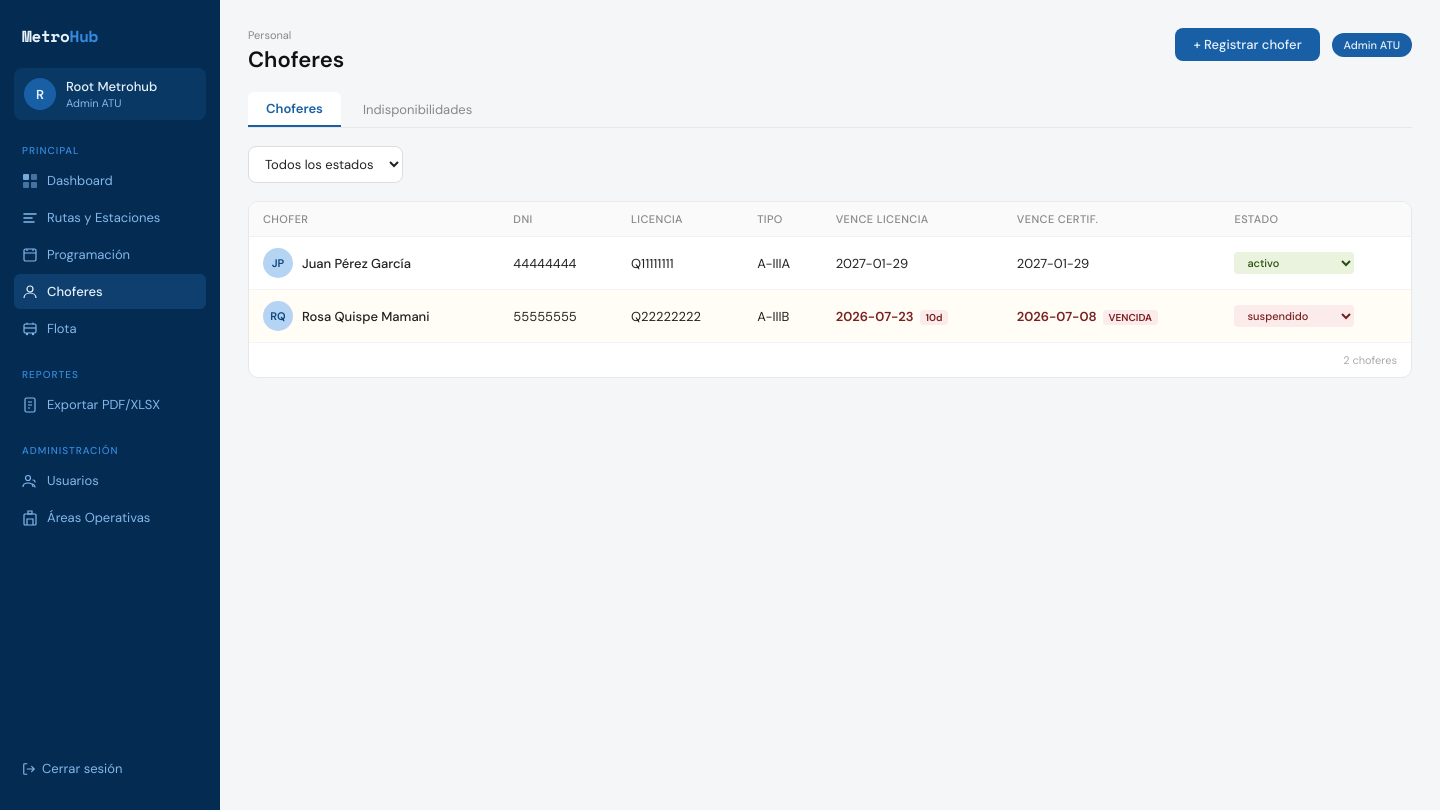
Test: Choferes (RF03) › valida los campos obligatorios al registrar un chofer
Expected: the text "Juan Pérez García" is shown, [302,254,411,272]
Click the button "+ Registrar chofer": (1248,44) [1176,28,1320,61]
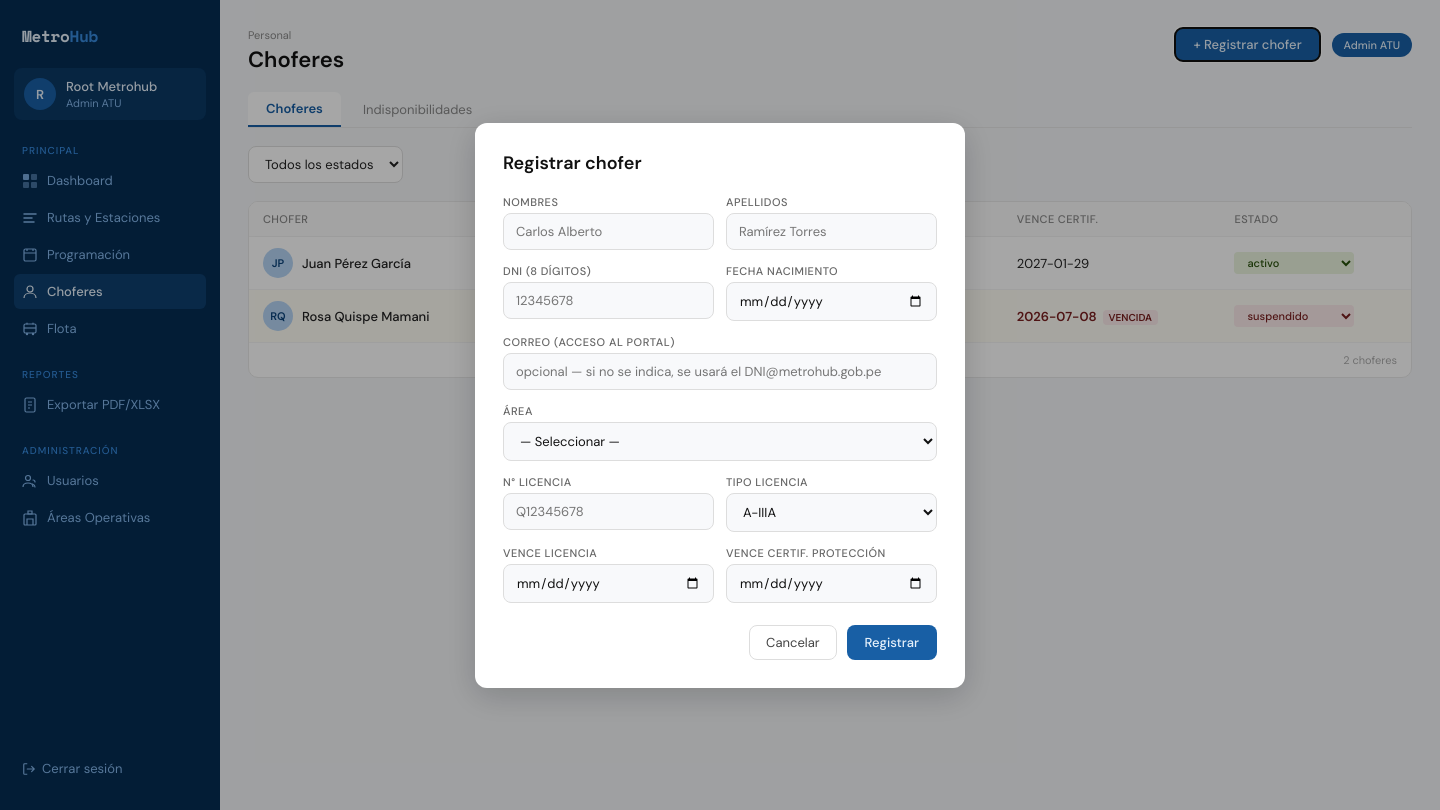
Click the button "Registrar": (892,642) [847,624,937,660]
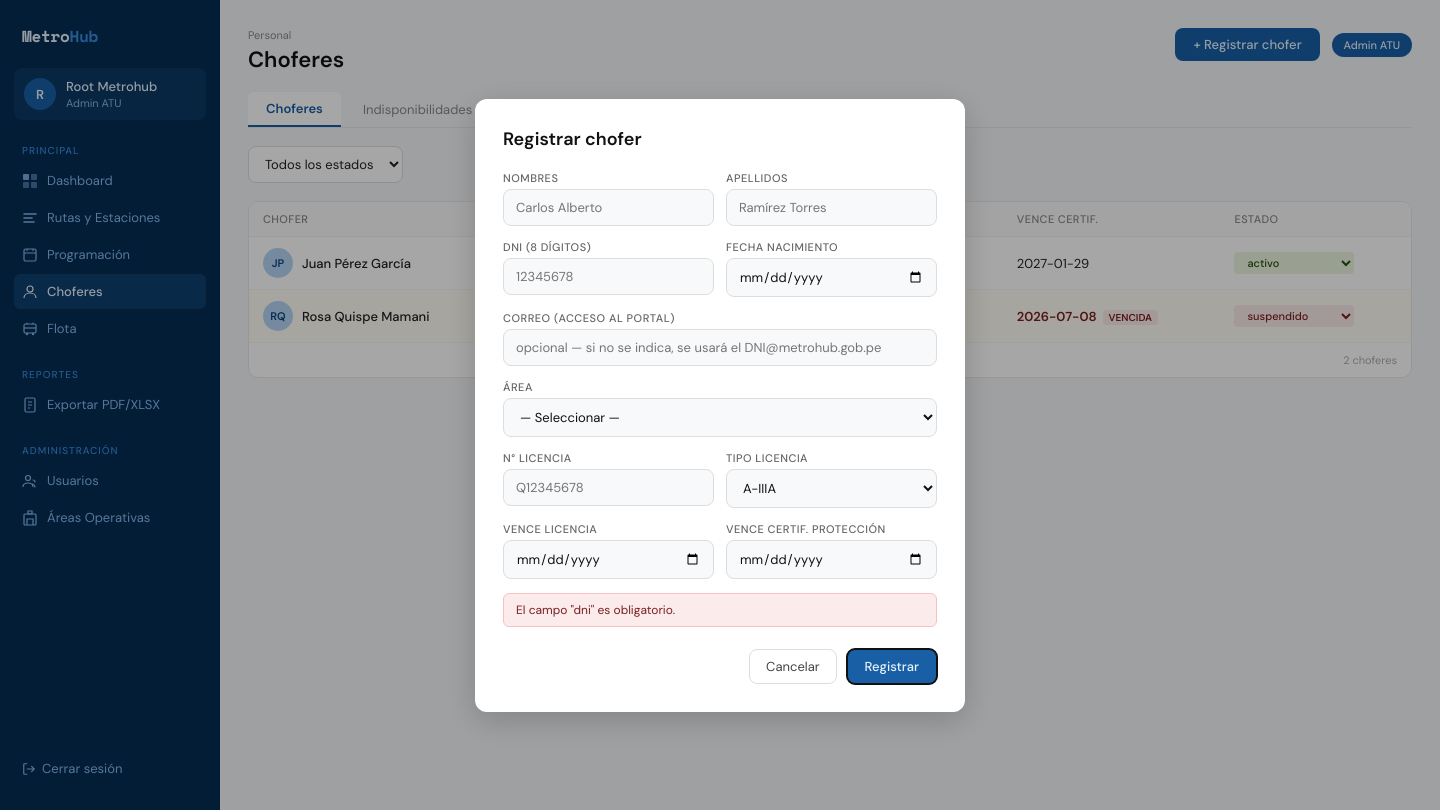
Expected: the text "El campo \"dni\" es obligatorio." is shown, [516,602,675,618]
